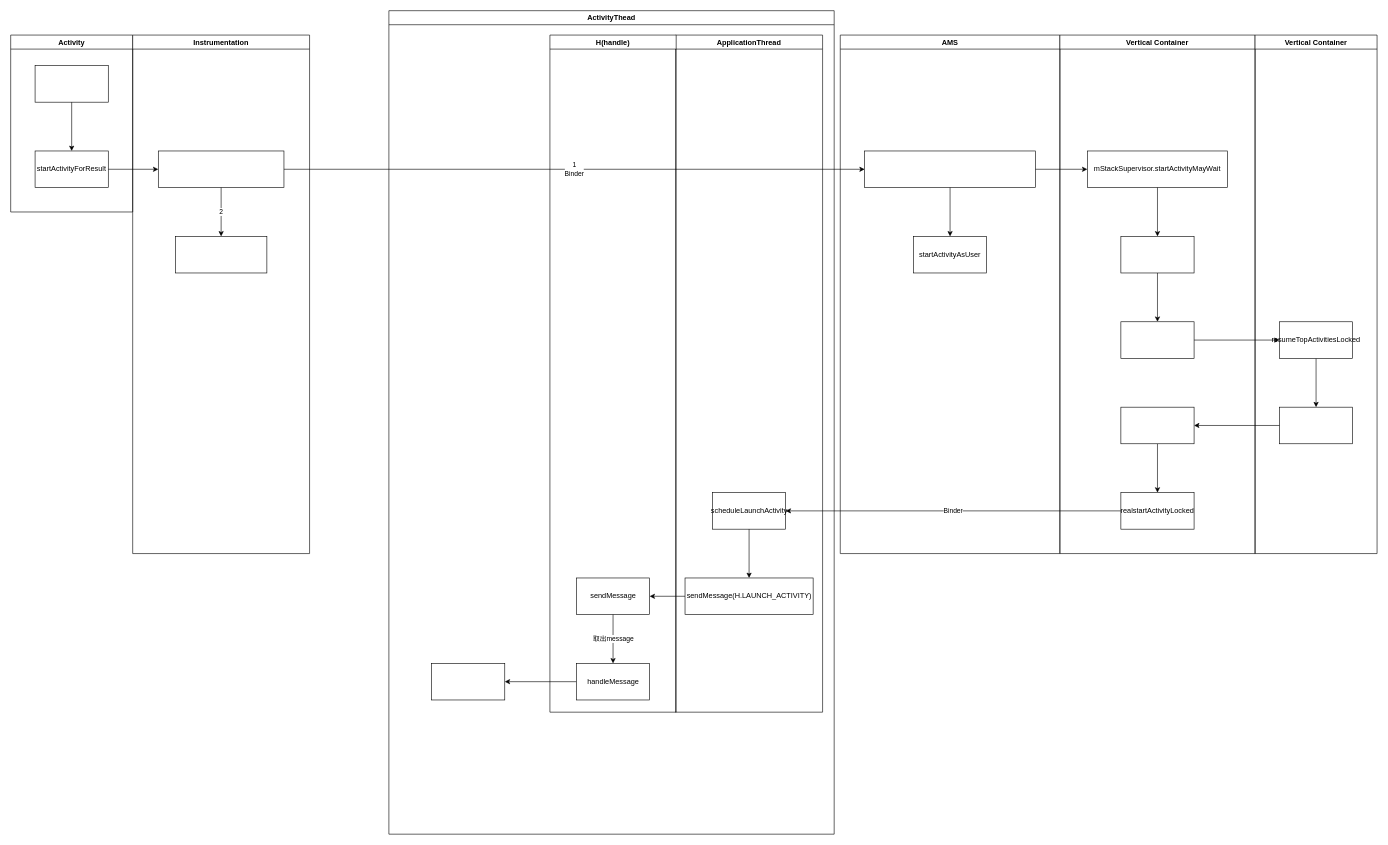
The diagram is 1388 pixels wide and 845 high, and some of its shapes have lost their labels. Here are the shapes that lost their labels. From the top down, the centre of each, then its label:
At (71,83): "startActivity".
At (221,169): "mInstrumentation.execStartActivity".
At (949,169): "ActivityManagerNative.getDefault().startActivity".
At (221,254): "checkStartActivityResult 检查启动结果".
At (1157,254): "startActivityLocked".
At (1157,339): "startActivityUncheckedLocked".
At (1157,425): "startSpecificActivityLocked".
At (1316,425): "resumeTopActivityInnerLocked".
At (468,681): "handleLaunchActivity".
